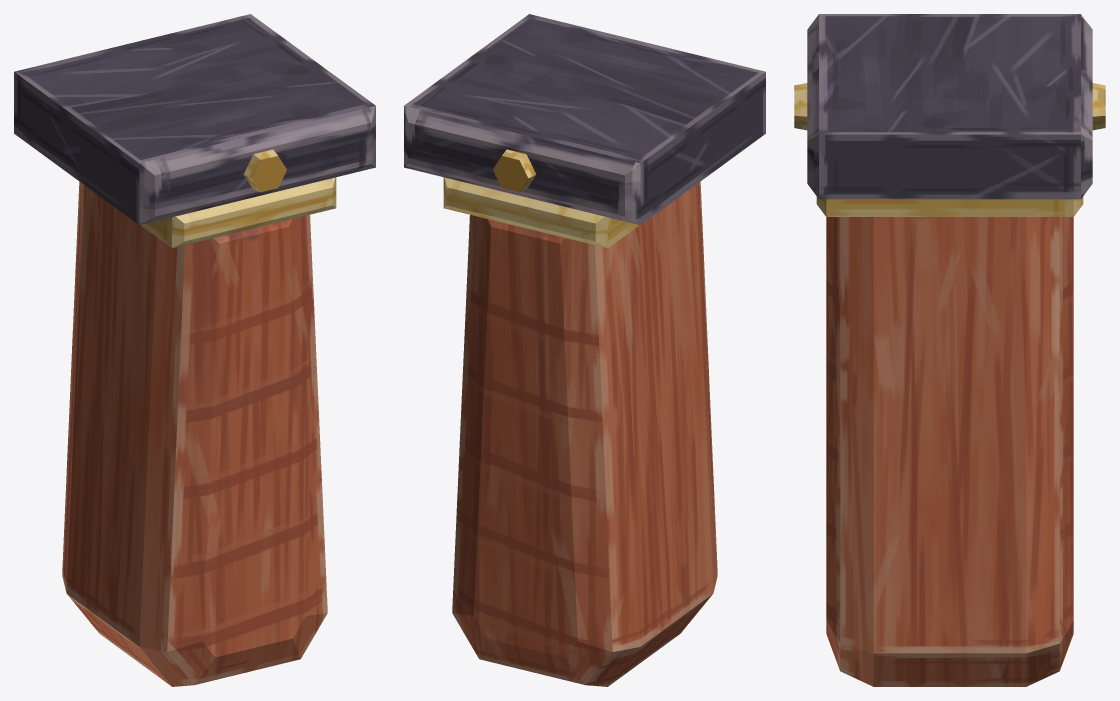
File: att_foregrip_body.fbx
The picture shows the model from 3 angles, left to right: view 1: azimuth 30°, elevation 25°; view 2: azimuth 150°, elevation 25°; view 3: azimuth 270°, elevation 25°; orthographic projection. The views are drawn at different scales.
Visible parts, largest first — view 1: att_foregrip_body; view 2: att_foregrip_body; view 3: att_foregrip_body.
Part boxes in pixels (box(x1,y1,x2,y2)): att_foregrip_body: box(14, 14, 375, 686); att_foregrip_body: box(404, 14, 765, 686); att_foregrip_body: box(794, 14, 1105, 686).
Bounding box in the file's own units: 0.135 × 0.3038 × 0.147.
